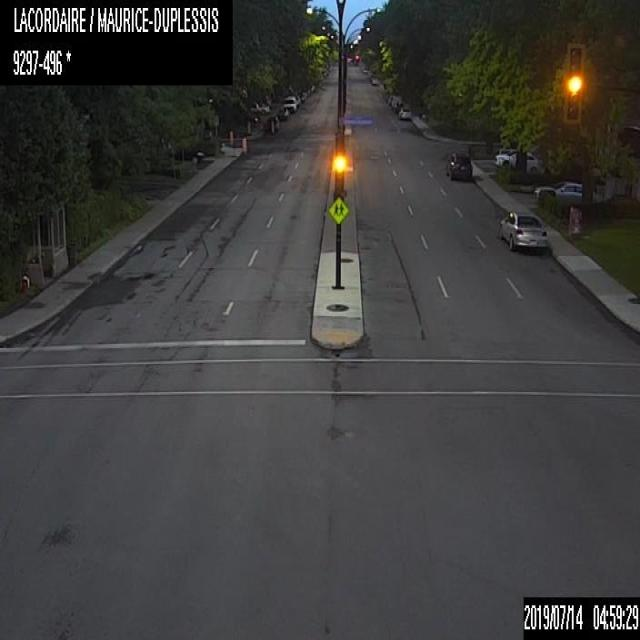construction: (245, 118, 251, 134), (241, 137, 247, 152), (228, 130, 233, 142)
vehicle: (498, 209, 551, 251), (443, 148, 472, 181), (532, 178, 584, 196), (494, 151, 538, 171), (170, 145, 202, 163), (262, 115, 279, 134), (283, 95, 297, 111), (398, 105, 412, 119), (391, 97, 404, 112), (276, 108, 291, 120), (258, 101, 269, 114), (370, 72, 378, 85), (386, 94, 395, 105), (251, 101, 259, 113), (295, 95, 300, 106)
